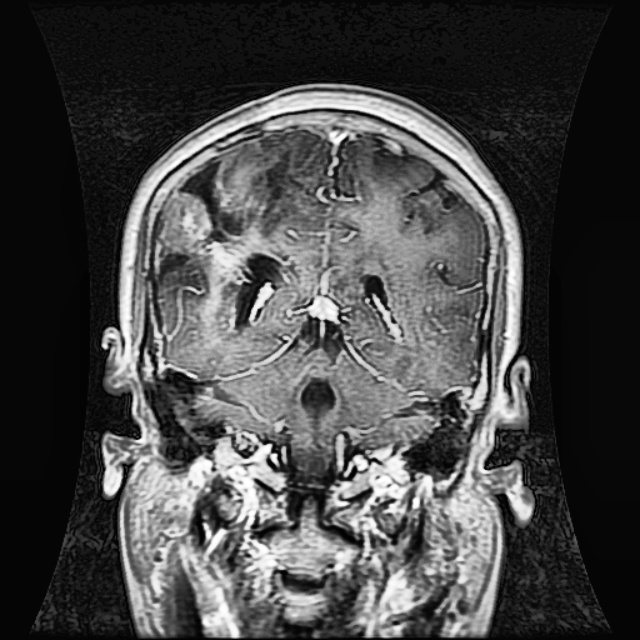Meningioma: (182, 164, 244, 248)
